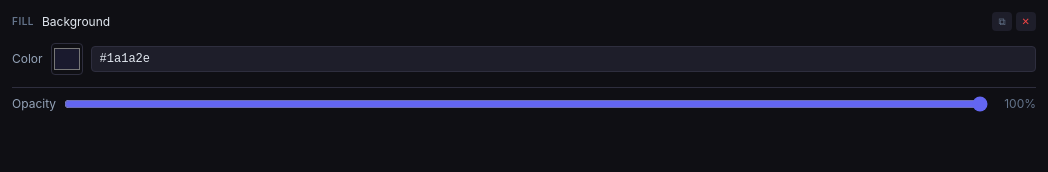
LayerInspector › layer name editing › should enter edit mode on double-click
Double-click the text "Background" at (76, 21), box [42,14,110,28]
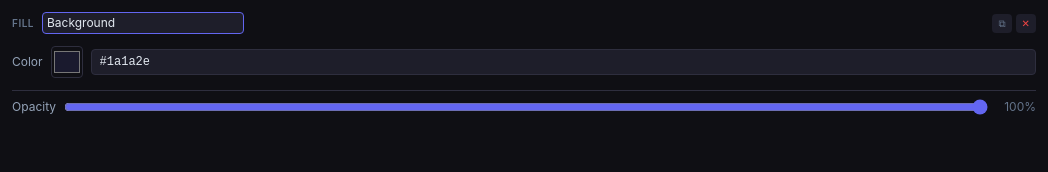
Expected: the field next to "fill" is shown, [42,12,244,34]
